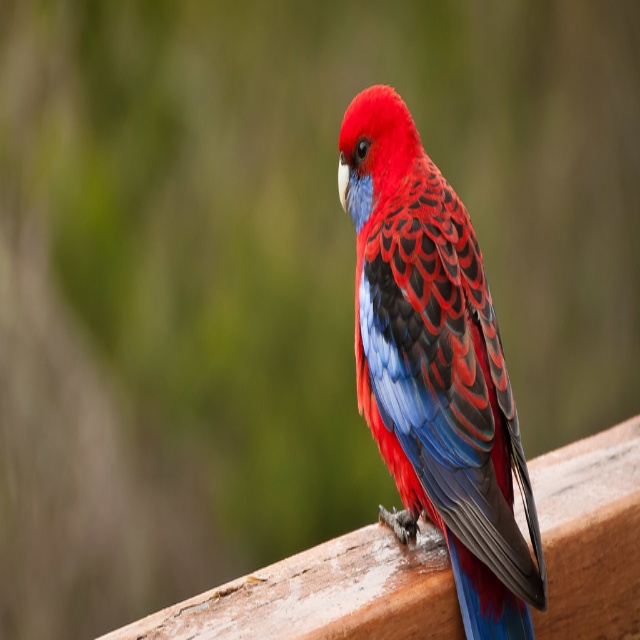Parrot: (336, 83, 549, 639)
